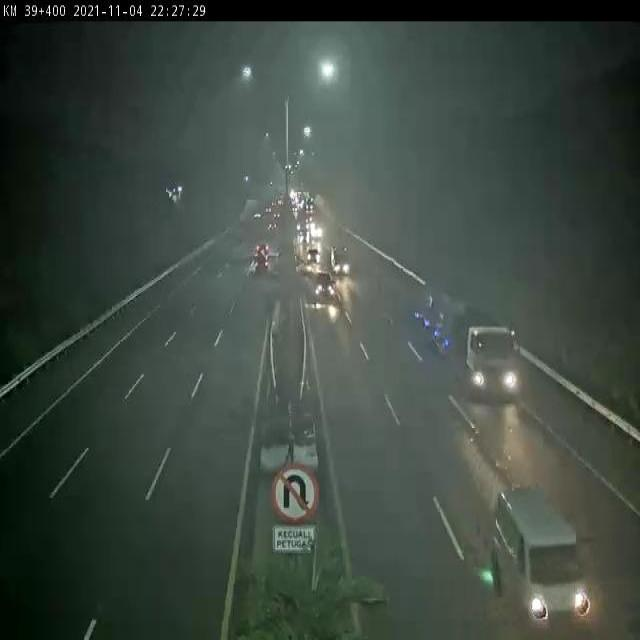car: (491, 489, 591, 627), (313, 271, 334, 297), (254, 256, 271, 275)
truck-s-: (330, 244, 350, 276)
truck-xl-: (410, 283, 515, 396)
